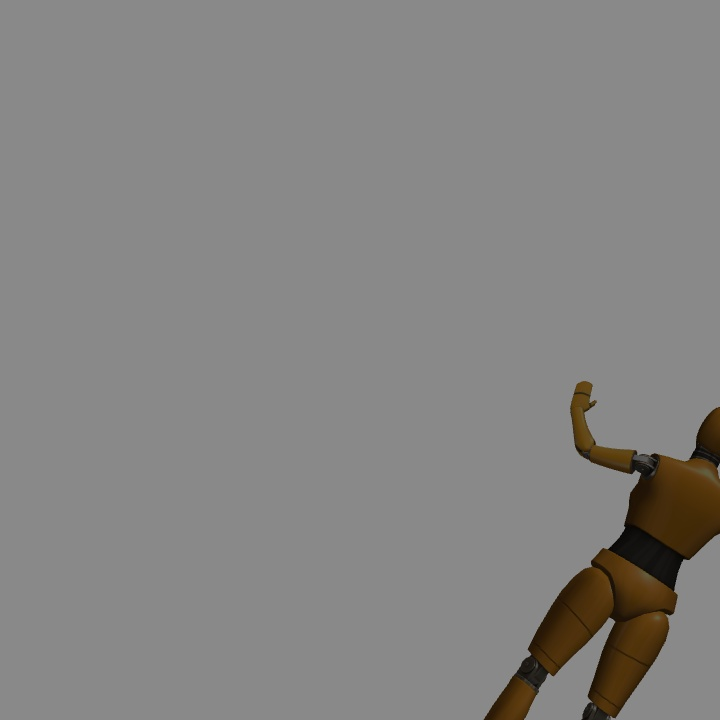victim: (486, 406, 720, 718)
